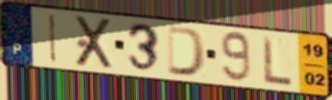3: (125, 21, 164, 74)
9: (219, 30, 254, 85)
D: (165, 24, 209, 79)
I: (48, 12, 58, 65)
L: (261, 34, 295, 87)
X: (74, 15, 116, 70)
